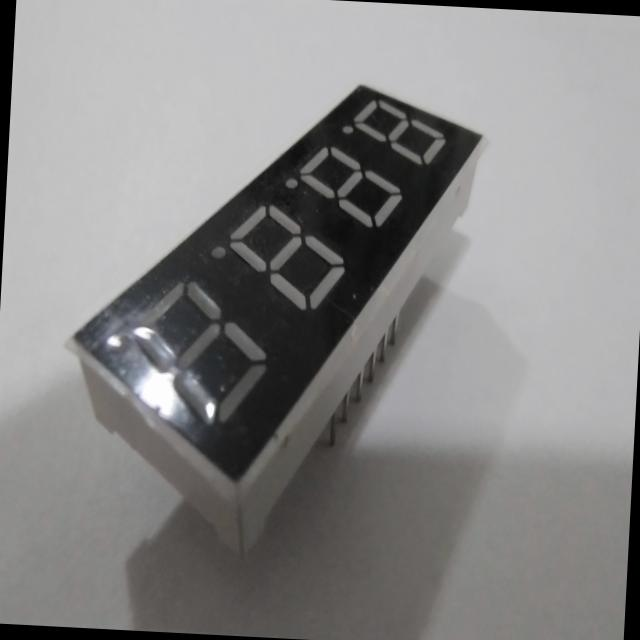7_segments_4_digits: (53, 59, 500, 575)
